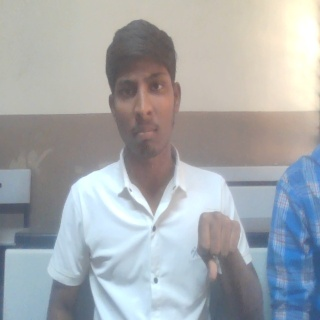Face: (106, 19, 183, 157)
Yes: (196, 211, 243, 283)
